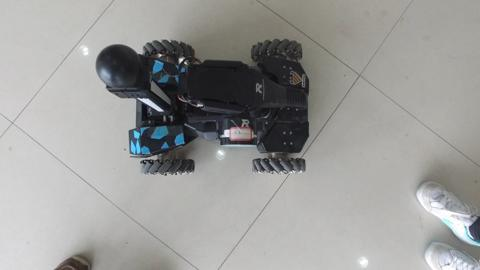chariot: (99, 31, 319, 182)
